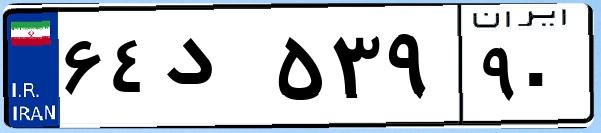0: (525, 38, 570, 115)
3: (330, 28, 385, 110)
4: (110, 28, 158, 98)
5: (270, 28, 330, 110)
6: (57, 26, 110, 100)
9: (385, 28, 445, 110), (475, 38, 525, 113)
د: (158, 20, 270, 120)
